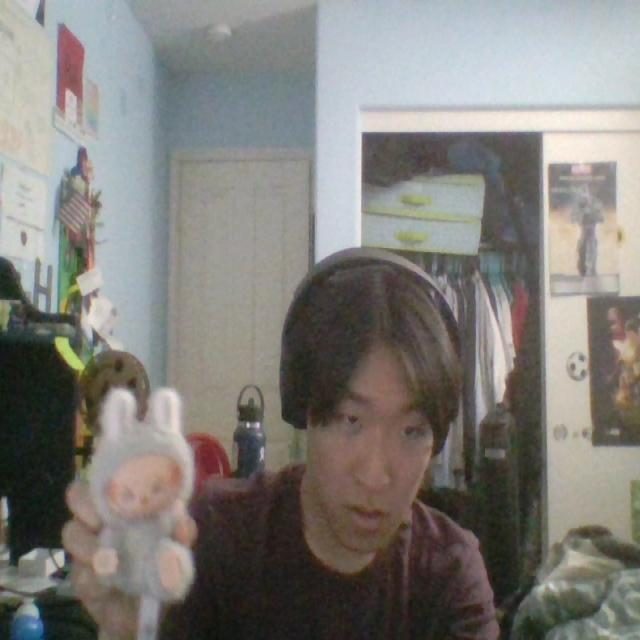labubu: (88, 388, 194, 601)
